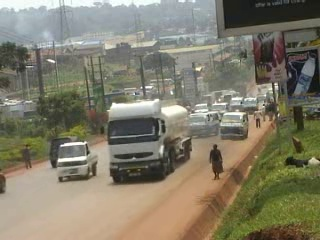Car: (45, 131, 82, 168), (0, 165, 11, 195)
